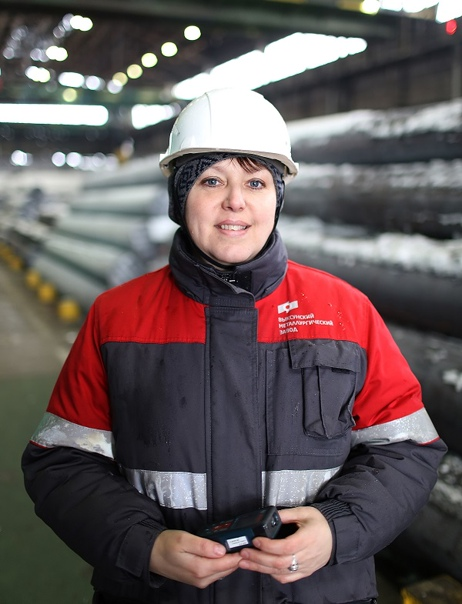person: (21, 88, 449, 604)
